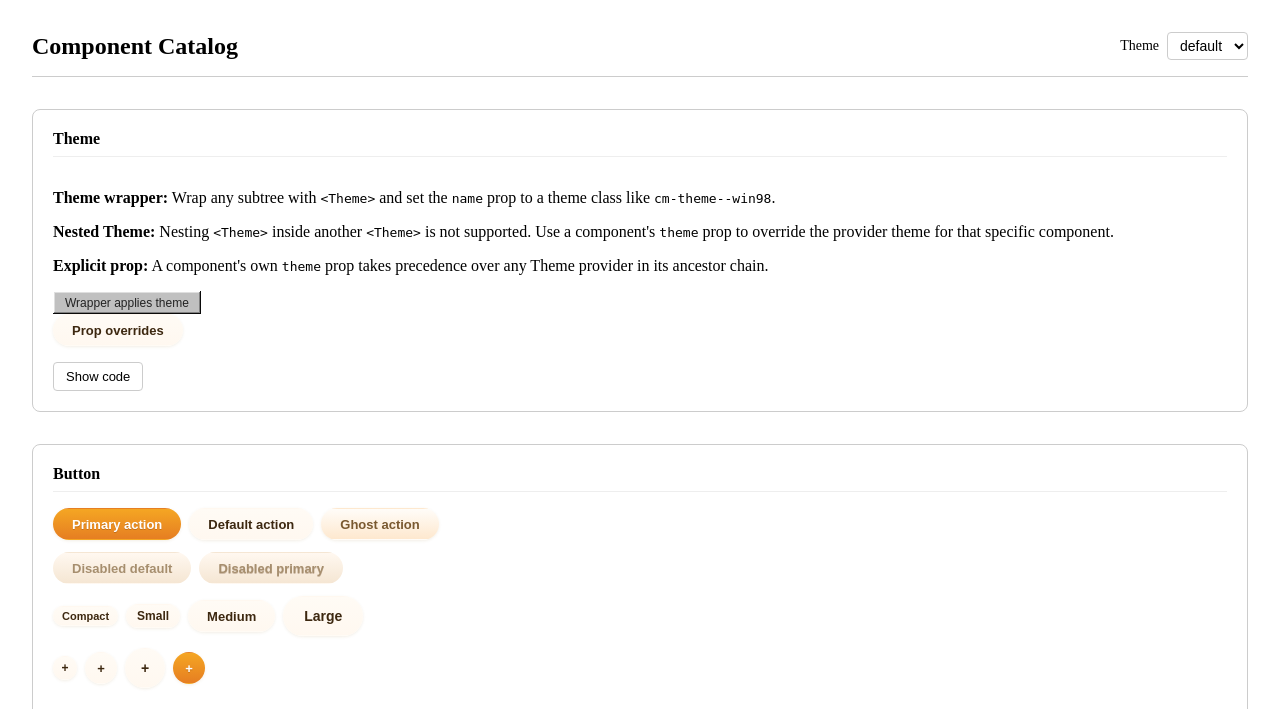
ComponentCatalog › expanding Theme section reveals Theme-related snippet text
This screenshot has width=1280, height=709.
Step 1. Click the button "Show code" → (98, 376), box 53,362 -> 143,391
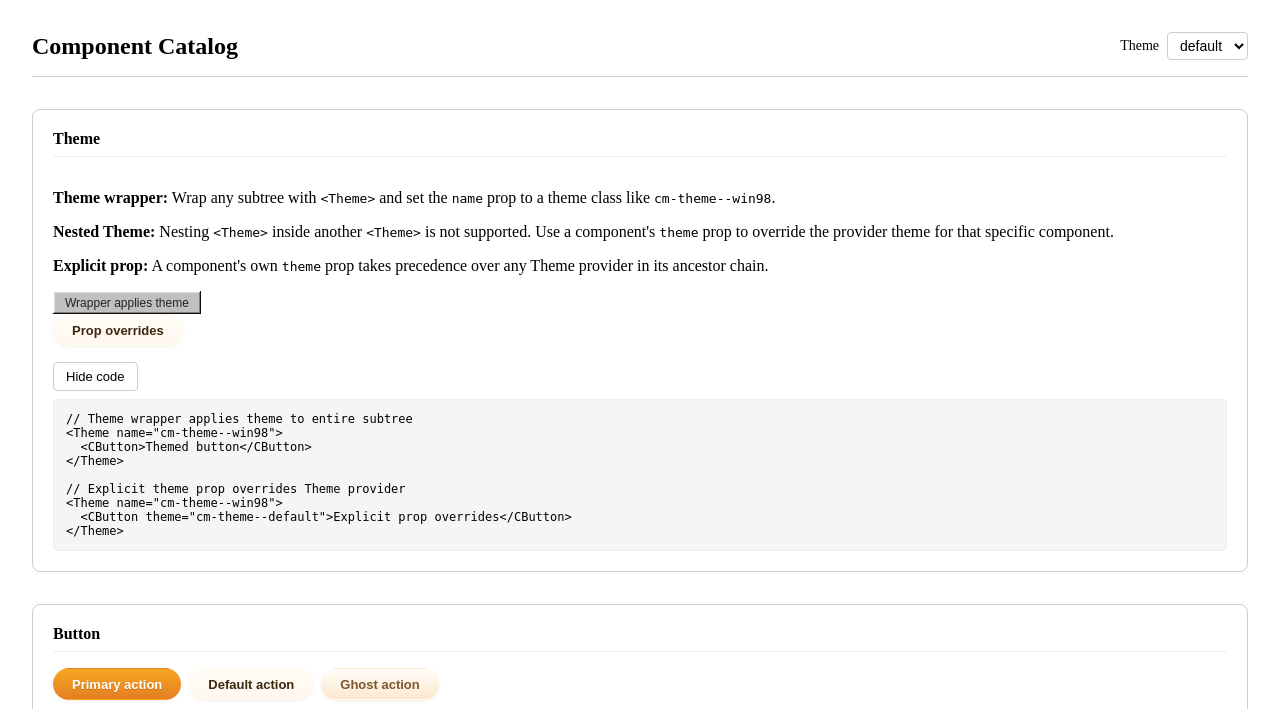
Now the button named "Show code" is expanded, box 53,362 -> 138,391
Now the text "Theme name=" is shown, box 66,412 -> 572,538
